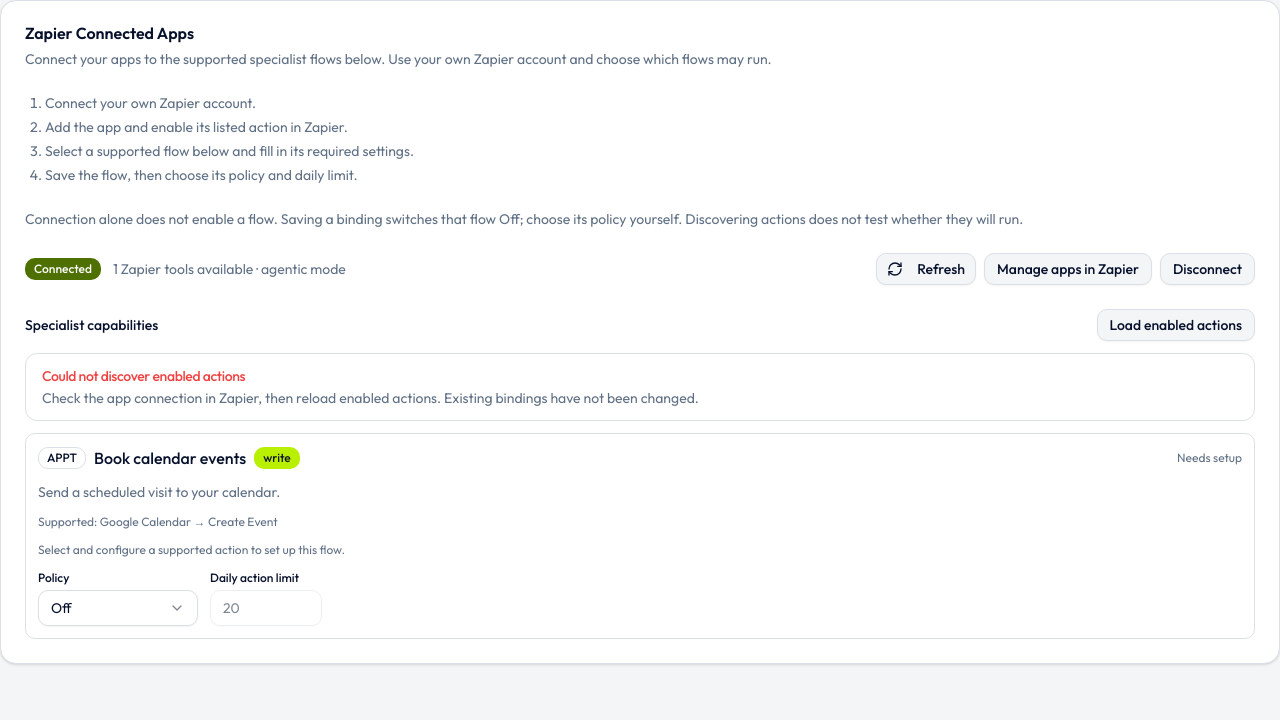
Test: client Zapier setup › offers action discovery recovery without misreporting an unavailable provider as no matching apps
This screenshot has width=1280, height=720.
Check: the heading "Could not discover enabled actions" is shown, box [42,367,245,385]
Click the button "Load enabled actions" at [1176, 325], box [1096,309,1255,341]
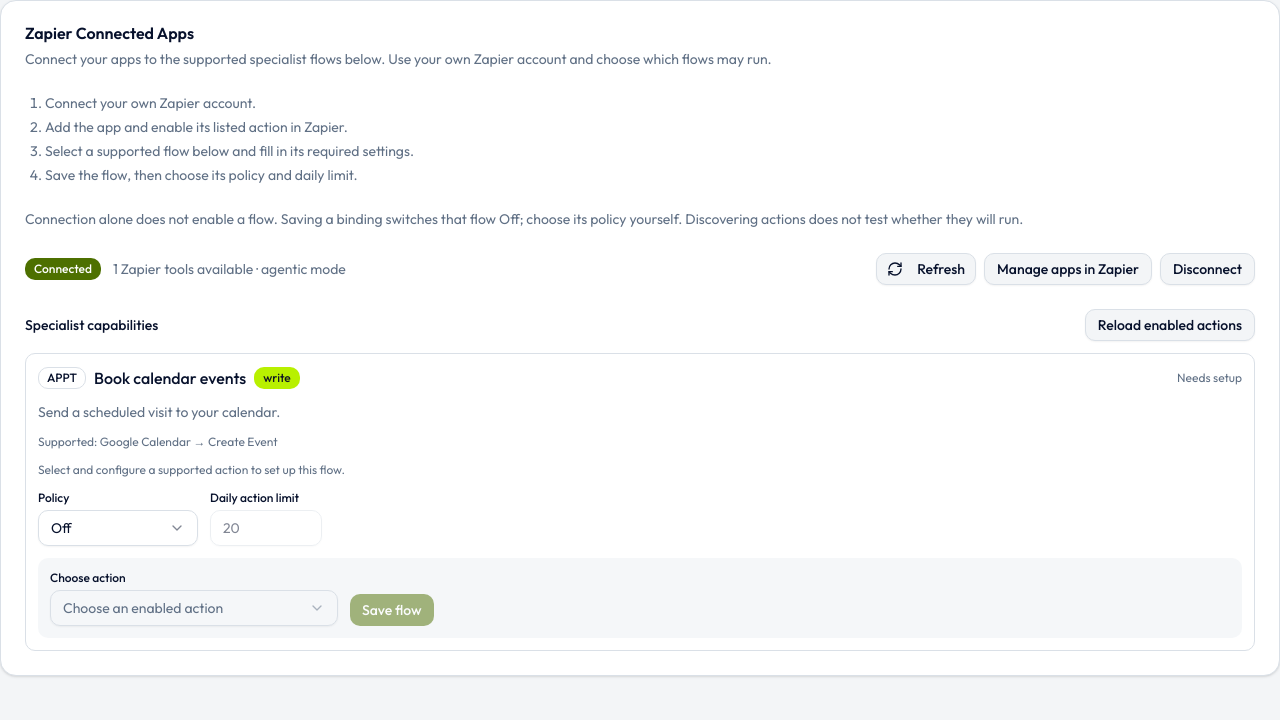
Check: the button "Save flow" is shown, box [350,594,434,626]
Check: the heading "Could not discover enabled actions" is gone
